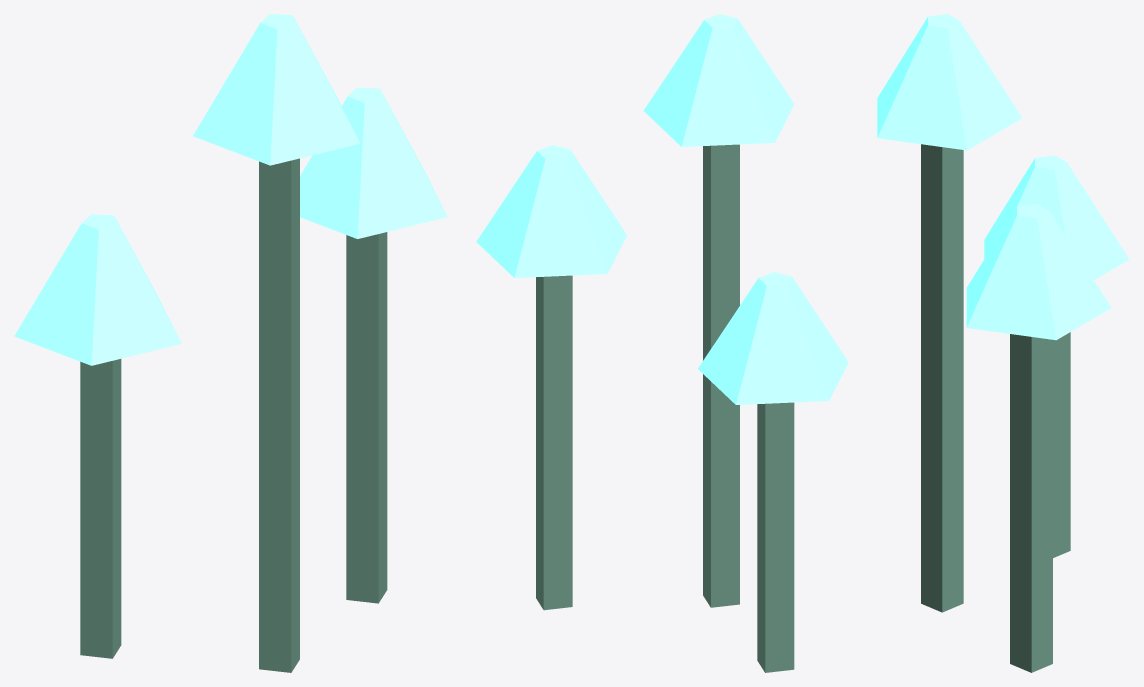
Rendered from flor_luminosa.glb.
3 renders of one model, left to right at view 1: azimuth 30°, elevation 25°; view 2: azimuth 150°, elevation 25°; view 3: azimuth 270°, elevation 25°, orthographic. The views are drawn at different scales.
Parts seen in each view (by area): view 1: flor_luminosa; view 2: flor_luminosa; view 3: flor_luminosa.
Part boxes in pixels (box(x1,y1,x2,y2)): flor_luminosa: box(14, 14, 447, 672); flor_luminosa: box(476, 14, 848, 672); flor_luminosa: box(877, 14, 1129, 672).
Bounding box in the file's own units: 0.2356 × 0.36 × 0.1414.
